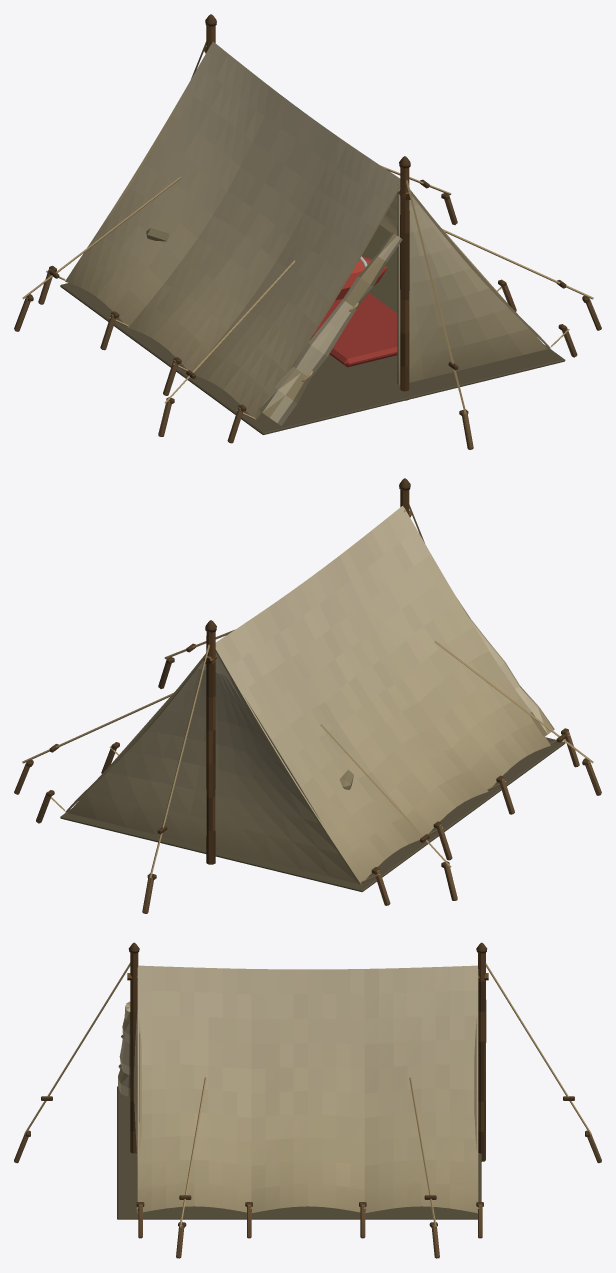
The model's file is camp-tent.glb.
3 renders of one model, top to bottom at view 1: azimuth 30°, elevation 25°; view 2: azimuth 150°, elevation 25°; view 3: azimuth 270°, elevation 25°, orthographic. The views are drawn at different scales.
Visible parts, largest first — view 1: camp_tent; view 2: camp_tent; view 3: camp_tent.
Part boxes in pixels (x1,y1,x2,y2): camp_tent: (14,14,601,449); camp_tent: (14,478,601,913); camp_tent: (14,942,601,1258).
Size of the model in its own units: 2.69 by 1.43 by 3.45.
